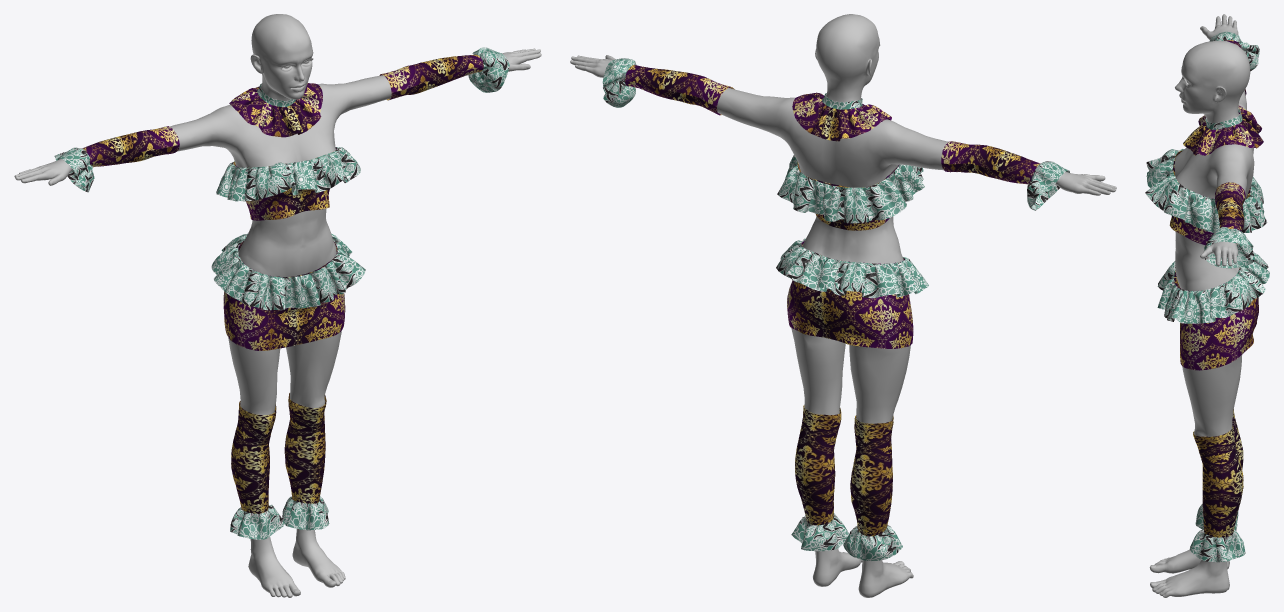
Rendered from dancer-costume.fbx.
3 renders of one model, left to right at view 1: azimuth 30°, elevation 25°; view 2: azimuth 150°, elevation 25°; view 3: azimuth 270°, elevation 25°, orthographic. The views are drawn at different scales.
Parts seen in each view (by area): view 1: cloth, CC_Base_Body; view 2: cloth, CC_Base_Body; view 3: cloth, CC_Base_Body.
Part boxes in pixels (<box>): cloth: <box>54,47,509,539</box>; CC_Base_Body: <box>14,14,541,597</box>; cloth: <box>602,58,1069,561</box>; CC_Base_Body: <box>570,14,1116,597</box>; cloth: <box>1145,31,1269,562</box>; CC_Base_Body: <box>1149,14,1254,597</box>.
Size of the model in its own units: 180 by 180 by 37.9.
3 materials, 2 textured.
